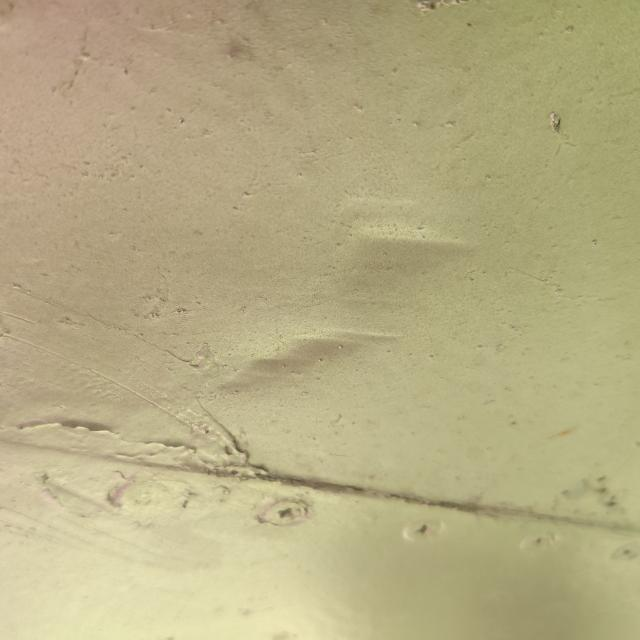dent: (198, 182, 508, 420)
